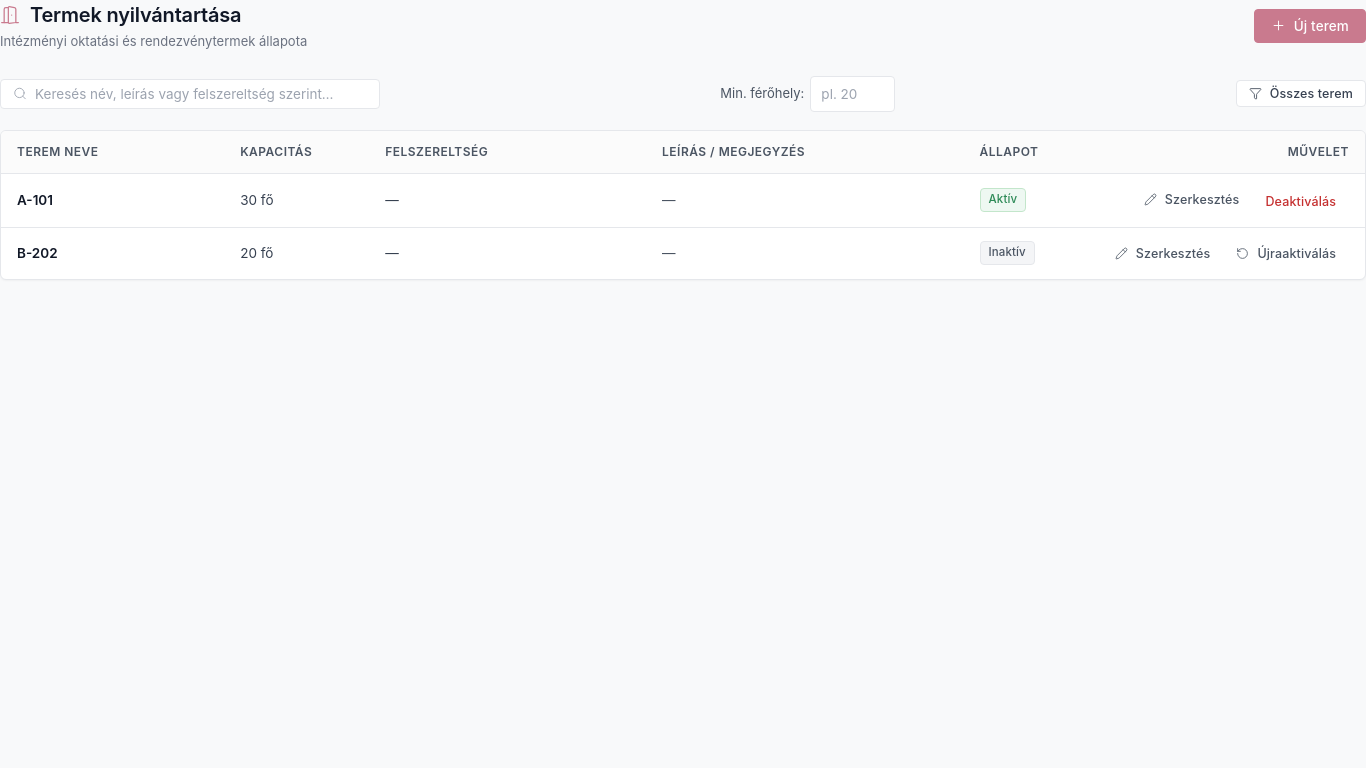
RoomsPage (admin) › edits the data of an existing room
Click the button with aria-label "A-101 szerkesztése" at x=1192, y=199, box [1131,186,1252,212]
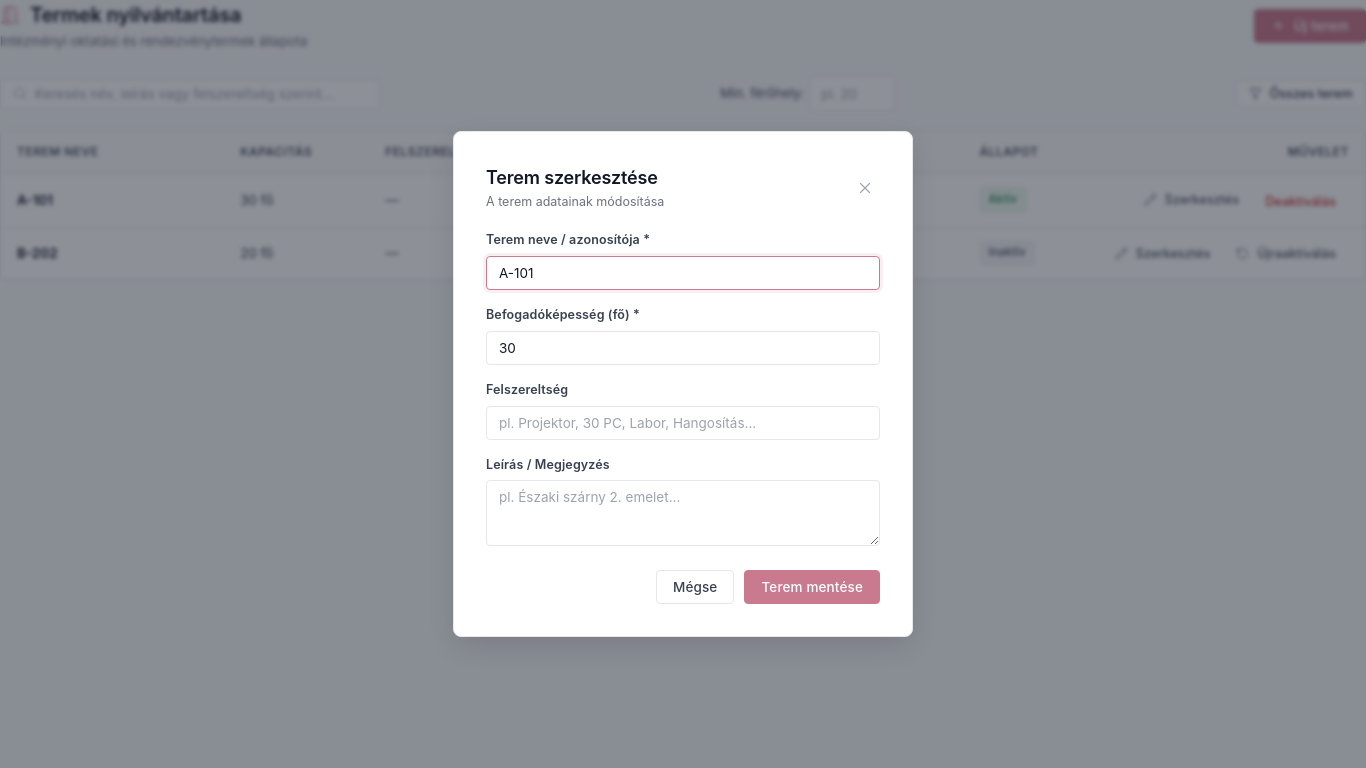
Now the heading "Terem szerkesztése" is shown, box [486,164,664,191]
Replace the text in the field labelled "Terem neve / azonosítója *" with "A-101/B" at x=683, y=273, box [486,256,880,290]
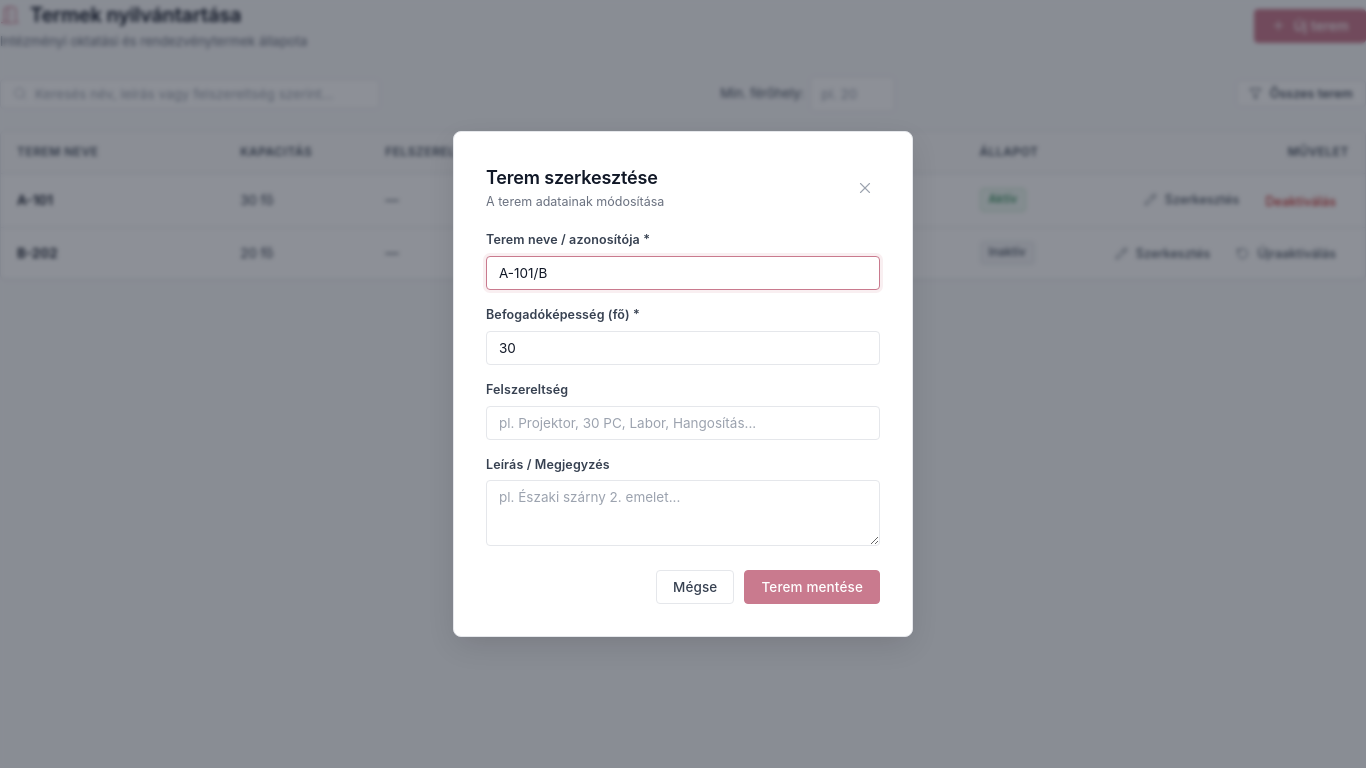
Replace the text in the number field labelled "Befogadóképesség (fő) *" with "35" at x=683, y=348, box [486,331,880,365]
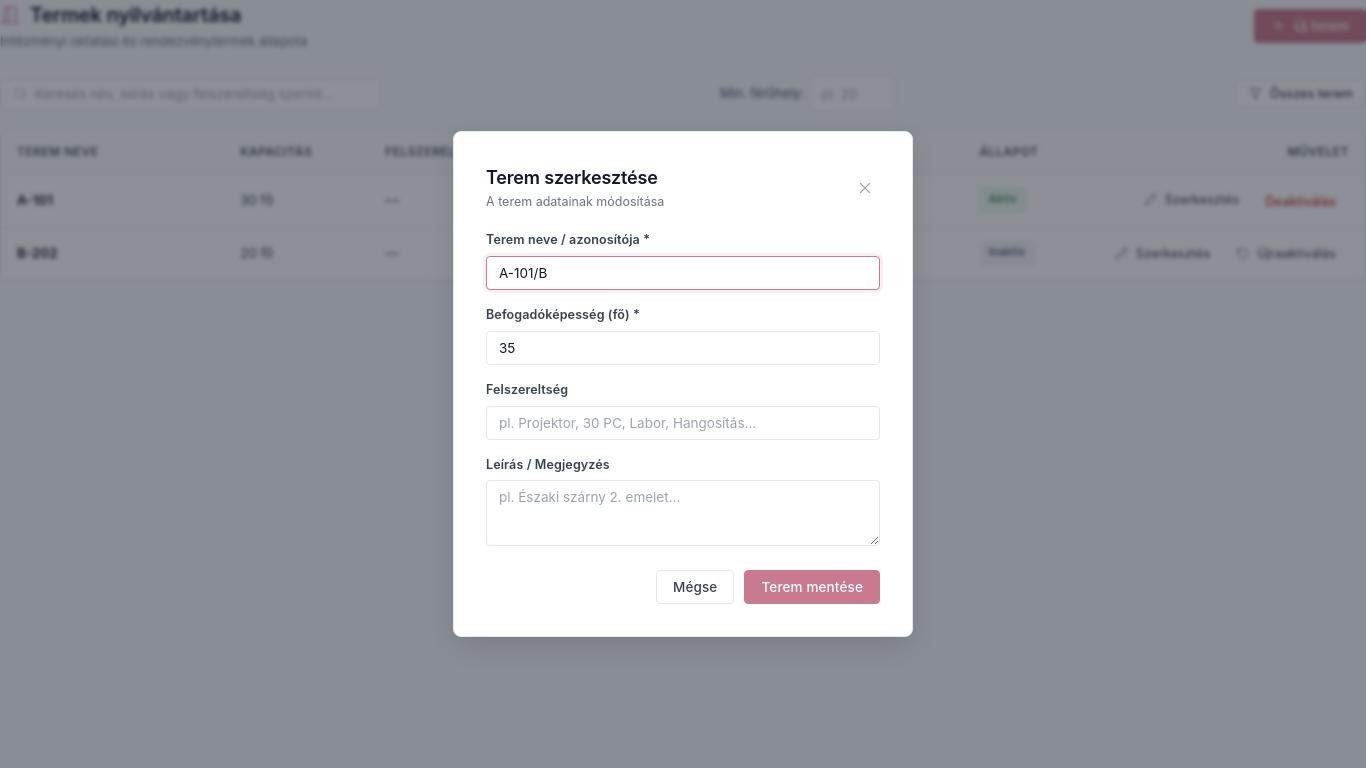
Click the button "Terem mentése" at x=812, y=587, box [744,570,880,604]
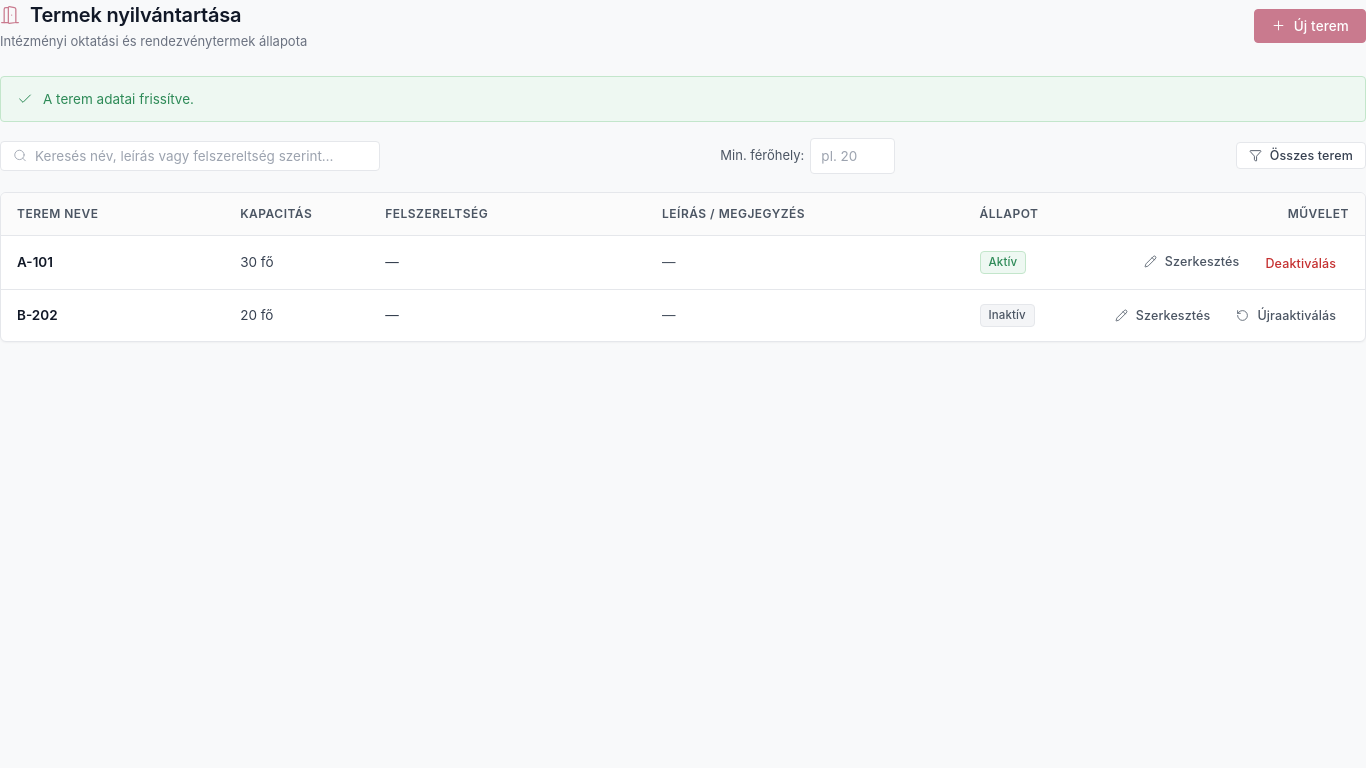
Now the text "A terem adatai frissítve." is shown, box [43,88,194,109]
